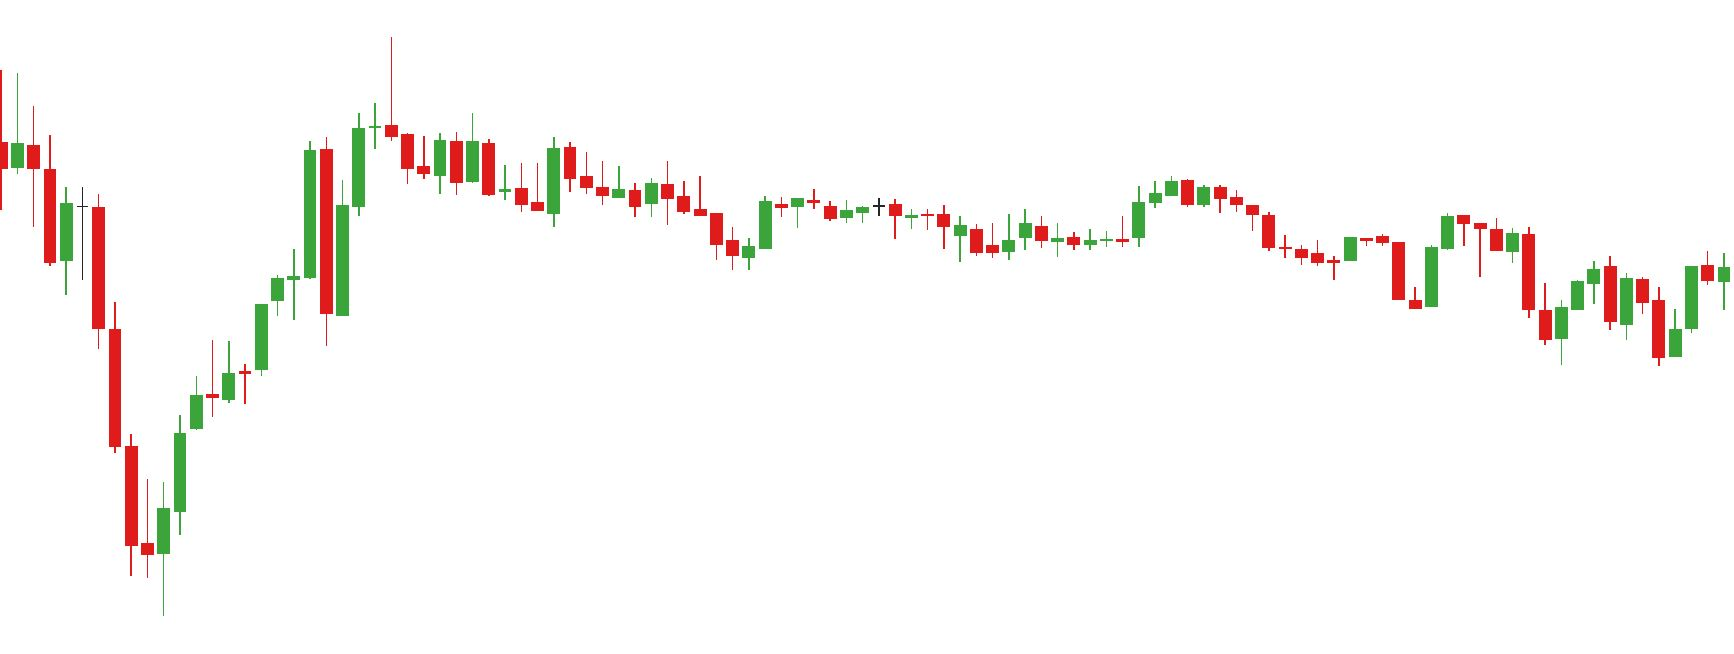sell: (1341, 210, 1506, 267)
